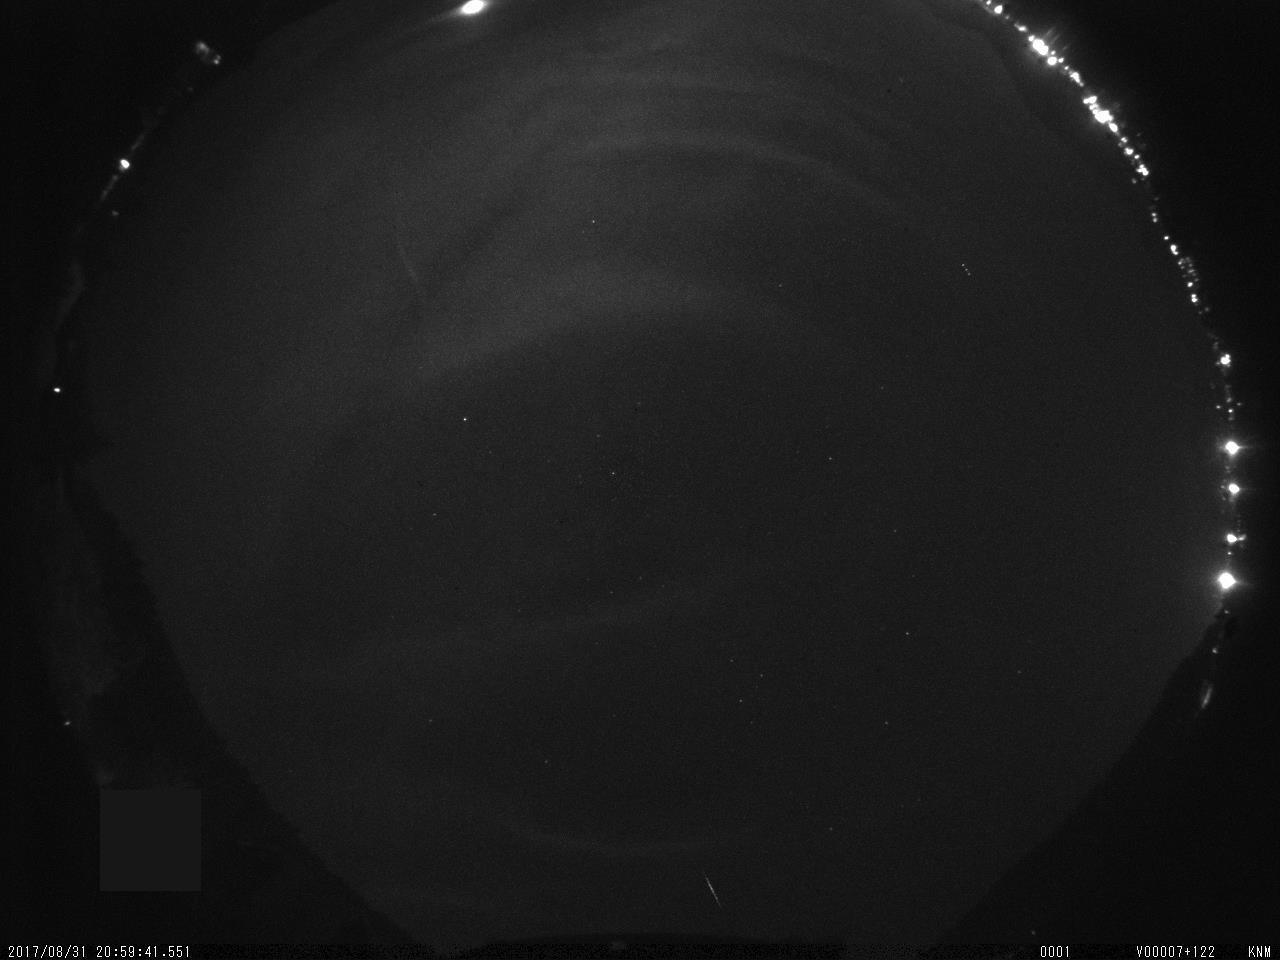Meteor: (697, 864, 731, 917)
